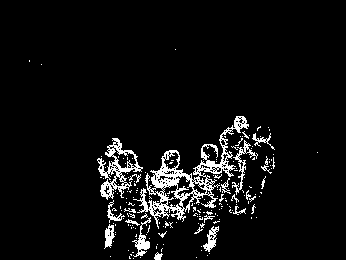person: (146, 145, 195, 260), (210, 114, 257, 220), (111, 149, 150, 258), (188, 141, 224, 252), (237, 124, 276, 218)
